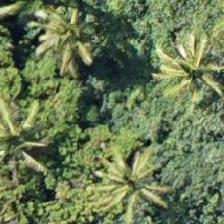coconut_tree: (24, 0, 114, 84), (83, 146, 173, 223), (152, 24, 223, 114), (0, 100, 56, 190)
